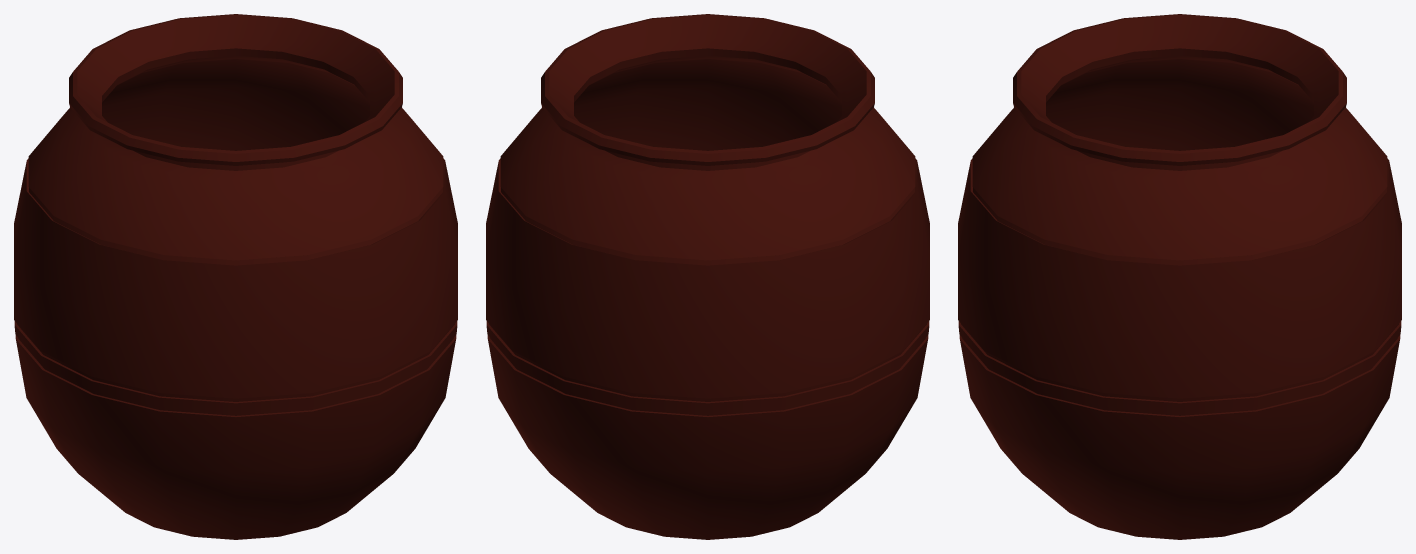
File: uploads_files_3845614_bigPot_FBX.FBX
The picture shows the model from 3 angles, left to right: view 1: azimuth 30°, elevation 25°; view 2: azimuth 150°, elevation 25°; view 3: azimuth 270°, elevation 25°; orthographic projection.
Parts seen in each view (by area): view 1: BigPot; view 2: BigPot; view 3: BigPot.
Part boxes in pixels (left/top/right/bottom): BigPot: left=14, top=14, right=457, bottom=539; BigPot: left=486, top=14, right=929, bottom=539; BigPot: left=958, top=14, right=1401, bottom=539.
Bounding box in the file's own units: 45.42 × 44.85 × 44.73.
